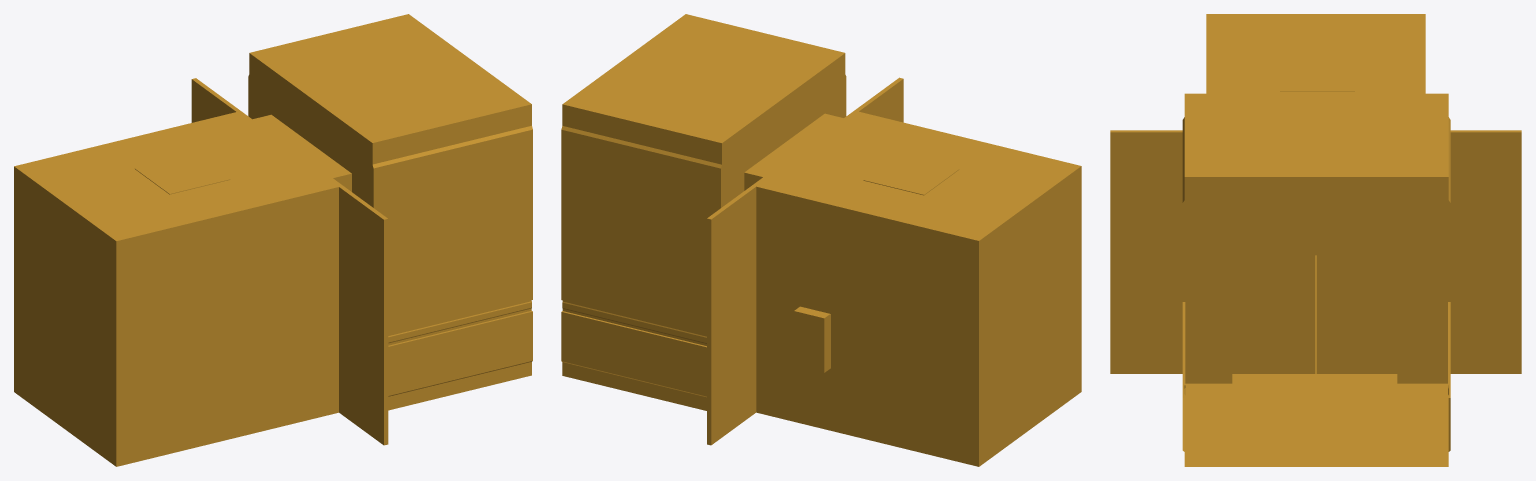
Rendered from elevator.glb.
The picture shows the model from 3 angles, left to right: view 1: azimuth 30°, elevation 25°; view 2: azimuth 150°, elevation 25°; view 3: azimuth 270°, elevation 25°; orthographic projection. The views are drawn at different scales.
Parts seen in each view (by area): view 1: Cube.070, Cube.071, Cube.057, Cube.014, Cube.001; view 2: Cube.070, Cube.071, Cube.001, Cube.014, Cube.057; view 3: Cube.071, Cube.057, Cube.001, Cube.070, Cube.014.
Boxes of the visible parts, x1,y1,x2,y2 form: Cube.070: (14, 112, 338, 466); Cube.071: (248, 14, 532, 410); Cube.057: (329, 178, 388, 445); Cube.014: (134, 153, 230, 194); Cube.001: (191, 78, 251, 122); Cube.070: (756, 111, 1081, 466); Cube.071: (561, 14, 847, 410); Cube.001: (707, 177, 767, 445); Cube.014: (863, 154, 959, 195); Cube.057: (844, 77, 903, 122); Cube.071: (1182, 93, 1450, 466); Cube.057: (1110, 130, 1315, 373); Cube.001: (1316, 130, 1521, 373); Cube.070: (1206, 14, 1425, 371); Cube.014: (1280, 59, 1354, 91).
Size of the model in its own units: 4.63 by 2.96 by 3.8.
